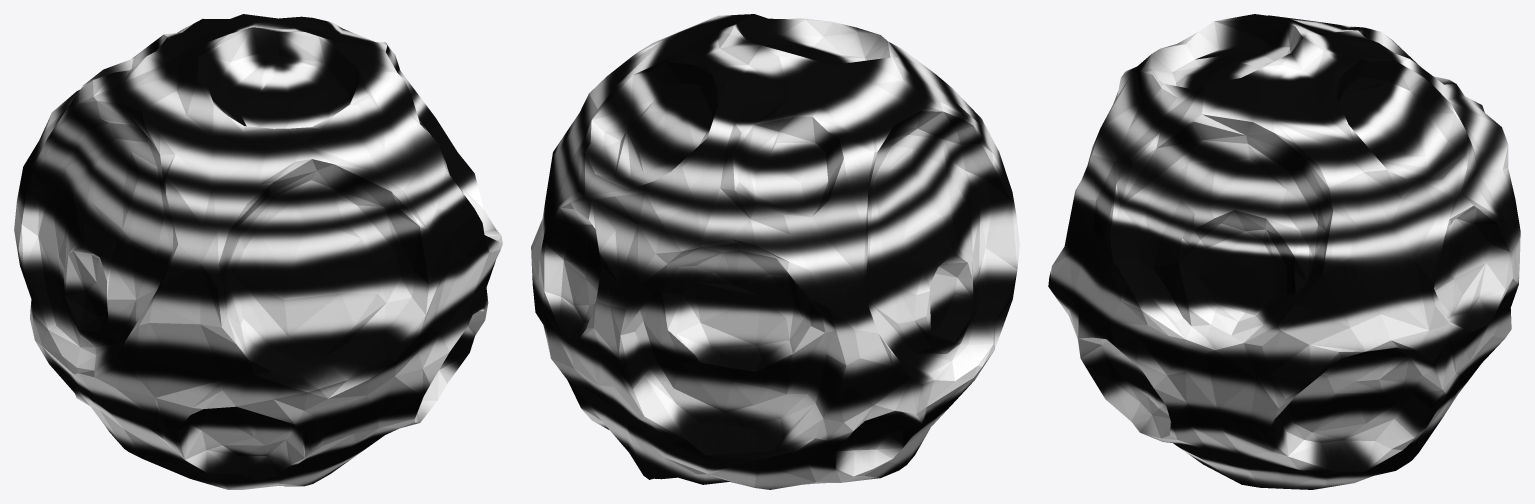
Rendered from SM_Env_Asteroid_Round_05.fbx.
3 views of the same model, side by side, from view 1: azimuth 30°, elevation 25°; view 2: azimuth 150°, elevation 25°; view 3: azimuth 270°, elevation 25° (orthographic). The views are drawn at different scales.
Parts seen in each view (by area): view 1: SM_Env_Asteroid_Round_05_LOD0; view 2: SM_Env_Asteroid_Round_05_LOD0; view 3: SM_Env_Asteroid_Round_05_LOD0.
Boxes of the visible parts, x1,y1,x2,y2 form: SM_Env_Asteroid_Round_05_LOD0: (14,14,502,489); SM_Env_Asteroid_Round_05_LOD0: (531,14,1019,489); SM_Env_Asteroid_Round_05_LOD0: (1048,14,1520,489).
Bounding box in the file's own units: 26661 × 26220 × 26133.
1 material, 1 textured.
